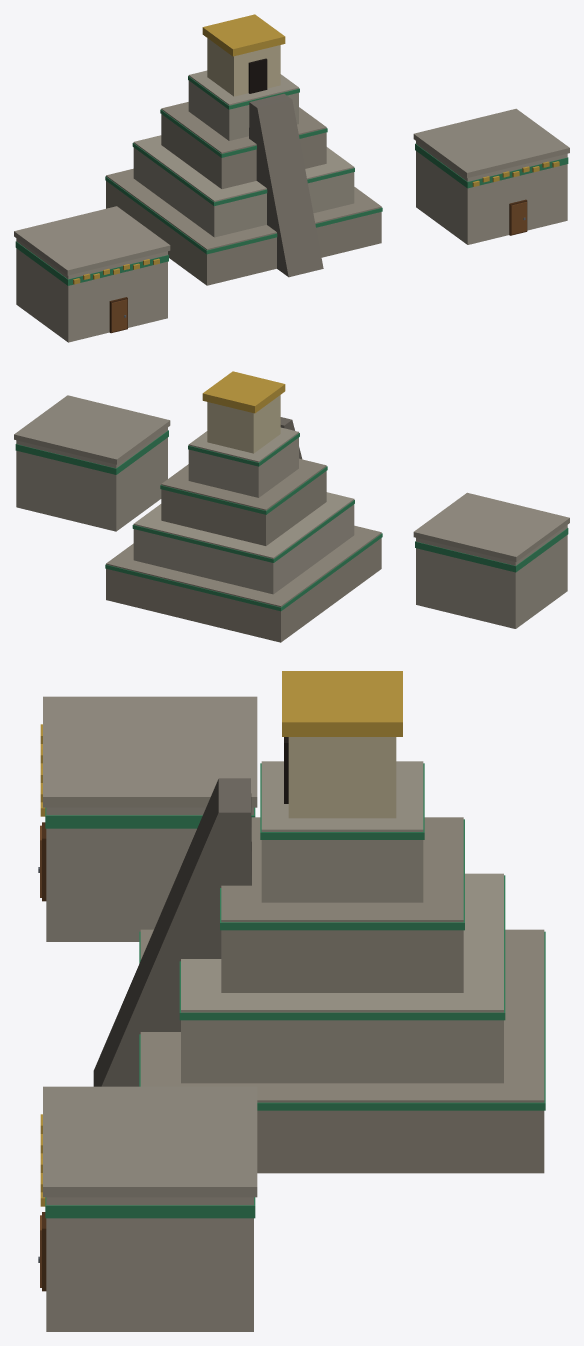
Rendered from frog_court_broken.glb.
3 views of the same model, one above another, from view 1: azimuth 30°, elevation 25°; view 2: azimuth 150°, elevation 25°; view 3: azimuth 270°, elevation 25° (orthographic). The views are drawn at different scales.
Parts seen in each view (by area): view 1: frog_court_piece10, frog_court_piece13, frog_court_piece8, frog_court_piece2, frog_court_piece6, frog_court_piece11, frog_court_piece7, frog_court_piece5, frog_court_piece1, frog_court_piece0, frog_court_piece4, frog_court_piece9 (+1 smaller); view 2: frog_court_piece5, frog_court_piece10, frog_court_piece1, frog_court_piece11, frog_court_piece6, frog_court_piece4, frog_court_piece9, frog_court_piece8, frog_court_piece2, frog_court_piece13, frog_court_piece3, frog_court_piece0; view 3: frog_court_piece10, frog_court_piece3, frog_court_piece8, frog_court_piece0, frog_court_piece5, frog_court_piece13, frog_court_piece9, frog_court_piece4, frog_court_piece11, frog_court_piece7, frog_court_piece2.
Part boxes in pixels (bbox=[...]): frog_court_piece10: bbox=[413, 108, 569, 244]; frog_court_piece13: bbox=[209, 33, 340, 272]; frog_court_piece8: bbox=[52, 223, 217, 342]; frog_court_piece2: bbox=[176, 135, 308, 282]; frog_court_piece6: bbox=[160, 32, 245, 263]; frog_court_piece11: bbox=[21, 206, 140, 330]; frog_court_piece7: bbox=[284, 36, 382, 264]; frog_court_piece5: bbox=[105, 102, 185, 208]; frog_court_piece1: bbox=[14, 165, 173, 323]; frog_court_piece0: bbox=[205, 28, 337, 167]; frog_court_piece4: bbox=[166, 70, 207, 162]; frog_court_piece9: bbox=[202, 14, 281, 74]; frog_court_piece5: bbox=[105, 503, 307, 642]; frog_court_piece10: bbox=[14, 395, 170, 524]; frog_court_piece1: bbox=[290, 537, 542, 632]; frog_court_piece11: bbox=[413, 514, 563, 608]; frog_court_piece6: bbox=[241, 410, 356, 594]; frog_court_piece4: bbox=[123, 431, 293, 551]; frog_court_piece9: bbox=[150, 379, 257, 511]; frog_court_piece8: bbox=[372, 492, 569, 602]; frog_court_piece2: bbox=[299, 460, 372, 590]; frog_court_piece13: bbox=[258, 378, 304, 460]; frog_court_piece3: bbox=[86, 464, 188, 531]; frog_court_piece0: bbox=[222, 371, 262, 420]; frog_court_piece10: bbox=[38, 1086, 257, 1331]; frog_court_piece3: bbox=[257, 815, 423, 1173]; frog_court_piece8: bbox=[38, 696, 181, 941]; frog_court_piece0: bbox=[209, 671, 392, 1094]; frog_court_piece5: bbox=[434, 817, 545, 1173]; frog_court_piece13: bbox=[95, 671, 370, 1086]; frog_court_piece9: bbox=[324, 671, 462, 1023]; frog_court_piece4: bbox=[383, 763, 502, 1173]; frog_court_piece11: bbox=[66, 696, 257, 864]; frog_court_piece7: bbox=[101, 721, 284, 1086]; frog_court_piece2: bbox=[93, 840, 425, 1173].
Bounding box in the file's own units: 6.04 × 2.25 × 2.64.
